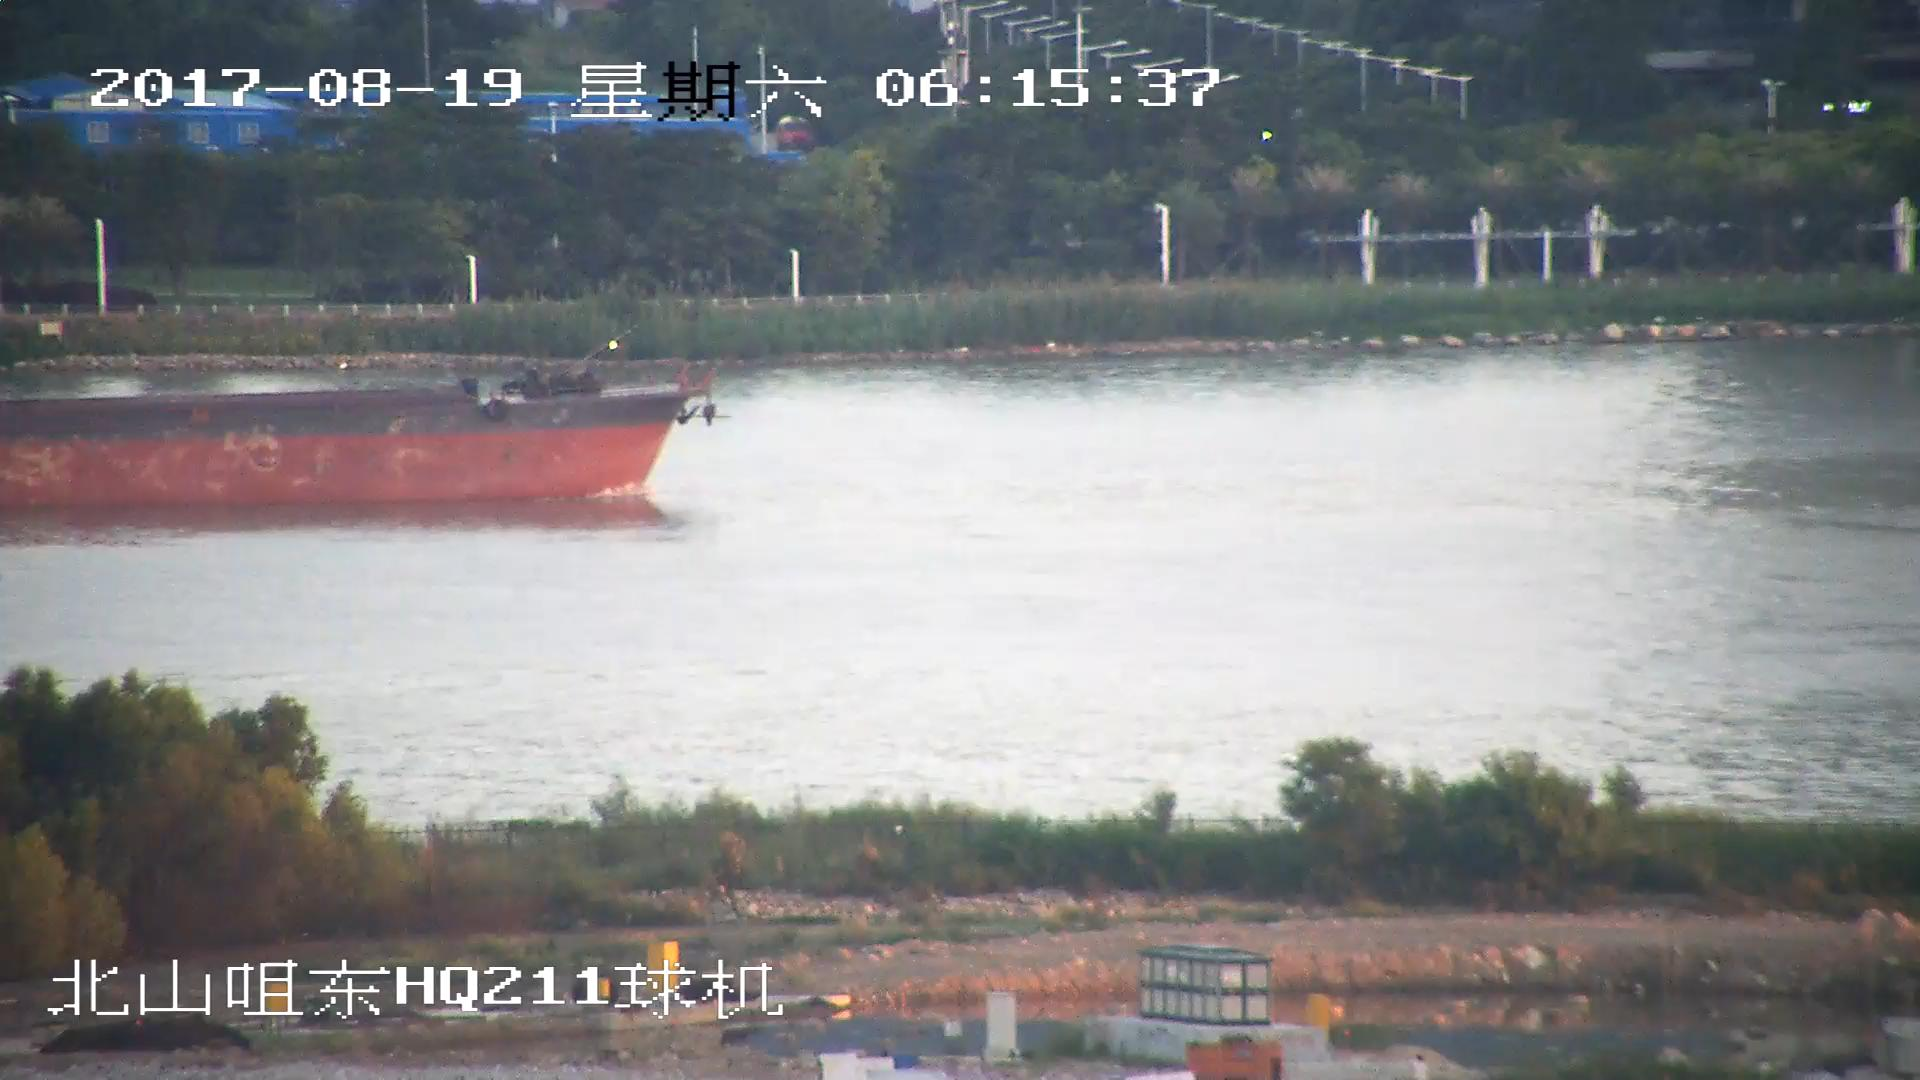bulk cargo carrier: (1, 339, 720, 512)
